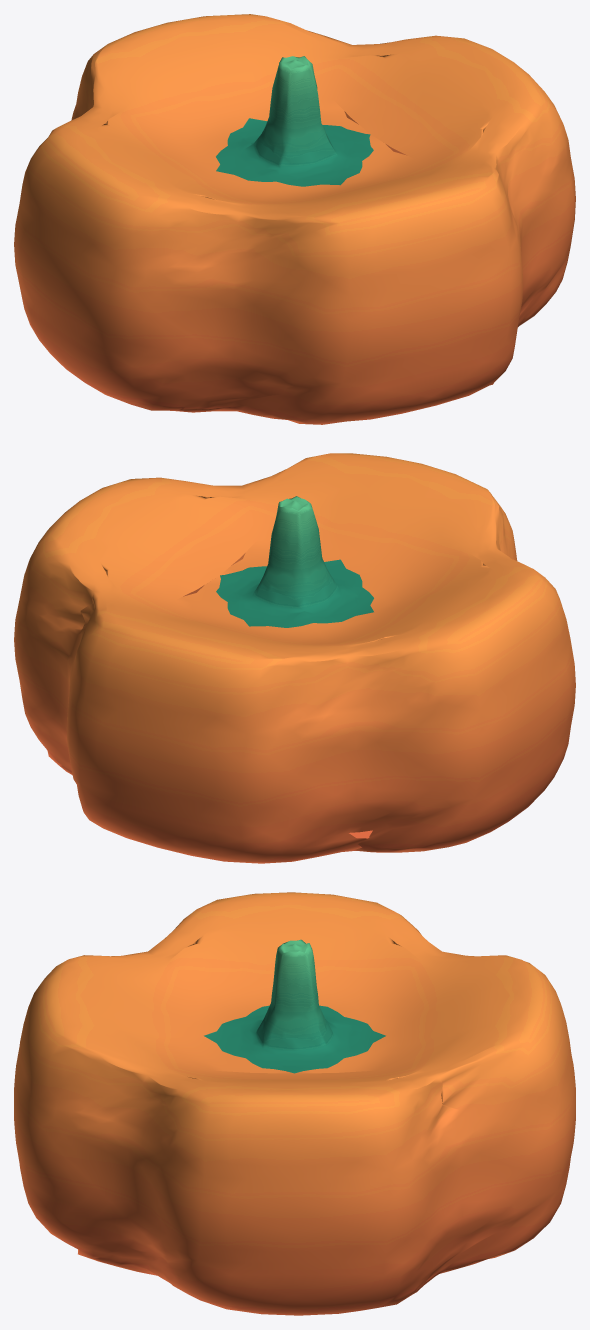
3 views of the same model, one above another, from view 1: azimuth 30°, elevation 25°; view 2: azimuth 150°, elevation 25°; view 3: azimuth 270°, elevation 25° (orthographic).
Bounding box in the file's own units: 1 × 0.5389 × 1.
Materials: 1 (1 with a texture image).
